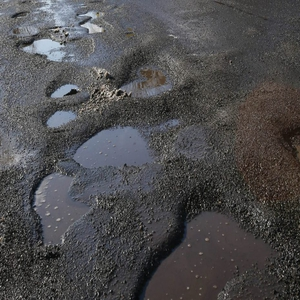pothole: (127, 187, 284, 300), (28, 163, 90, 249), (72, 120, 162, 168), (113, 50, 187, 97), (15, 34, 97, 63), (44, 67, 101, 98), (38, 107, 84, 128)
